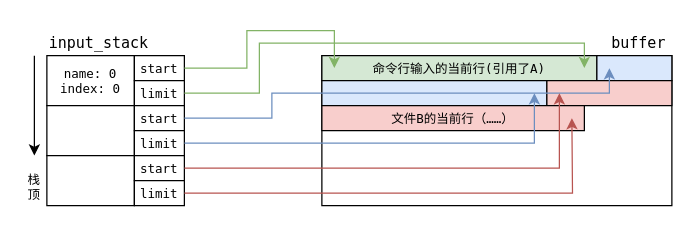
Image size: 694x228. Some labels were removed from this diagram. Here are the shapes that lost their labels. From the top down, the centre of each, then its label:
point (434, 92): 文件A的当前行（引用了B)
point (90, 130): name: "A" index: 1
point (90, 180): name: "B" index: 2
